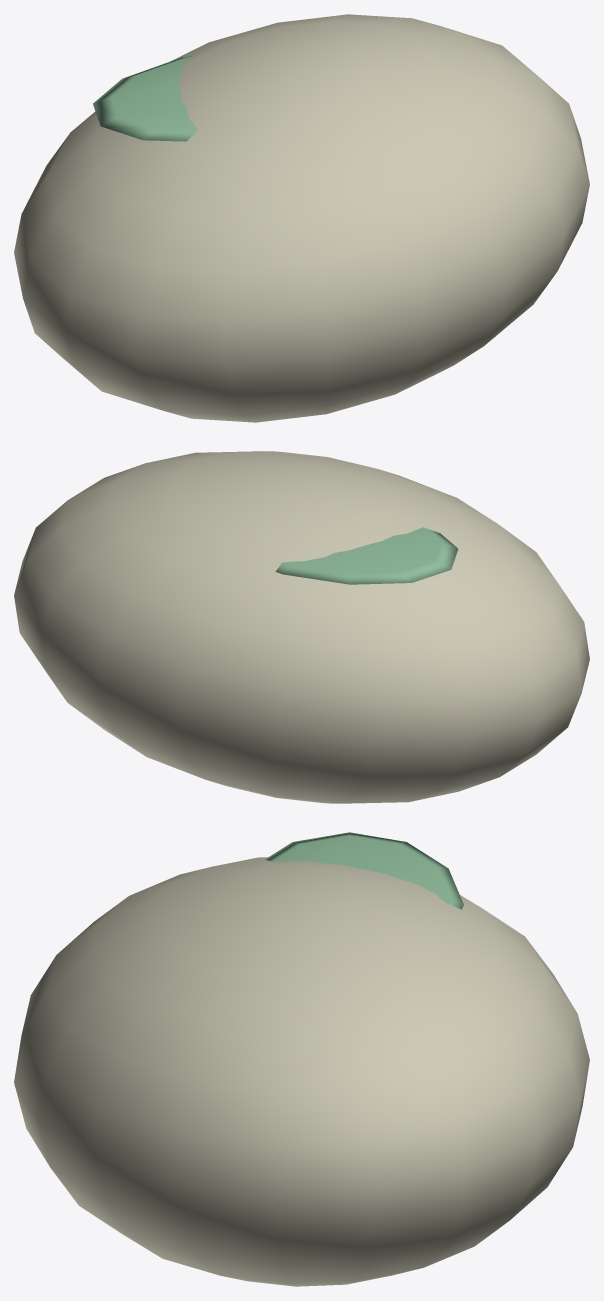
File: pedra-cartoon.obj
3 renders of one model, top to bottom at view 1: azimuth 30°, elevation 25°; view 2: azimuth 150°, elevation 25°; view 3: azimuth 270°, elevation 25°, orthographic. The views are drawn at different scales.
Parts seen in each view (by area): view 1: pedra-cartoon; view 2: pedra-cartoon; view 3: pedra-cartoon.
Part boxes in pixels (<box>): pedra-cartoon: <box>14,14,589,422</box>; pedra-cartoon: <box>14,451,589,803</box>; pedra-cartoon: <box>14,832,589,1286</box>.
Size of the model in its own units: 0.7411 by 0.404 by 0.6046.
Materials: 1 (1 with a texture image).
